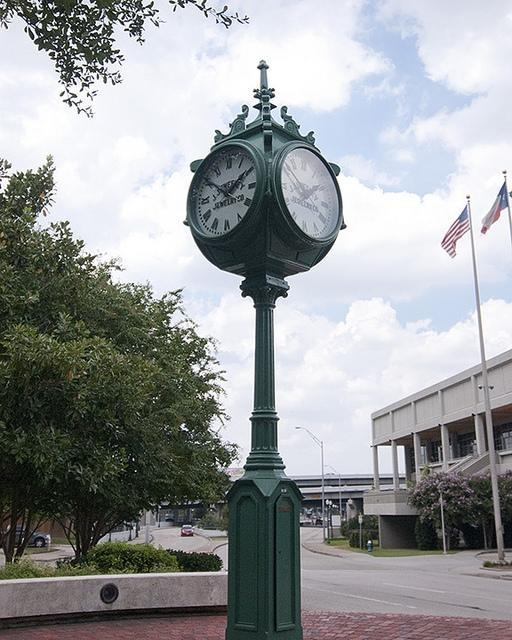car: (14, 524, 52, 548), (181, 525, 194, 536), (315, 518, 322, 526)
